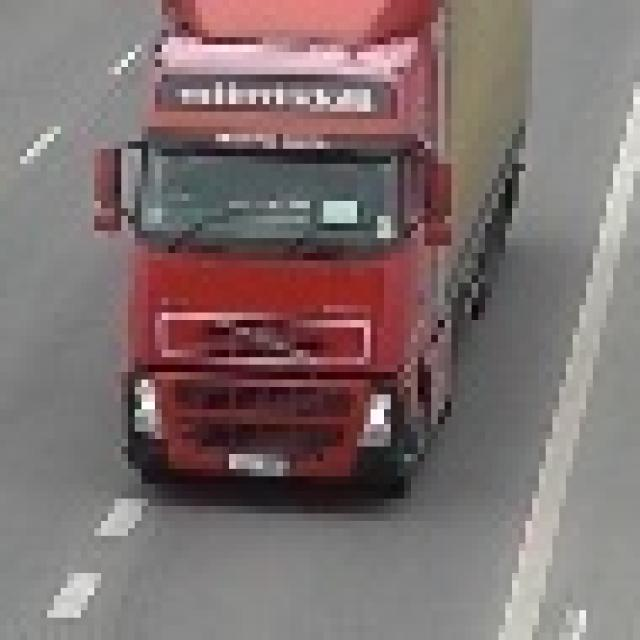TRUCK: (134, 3, 518, 500)
